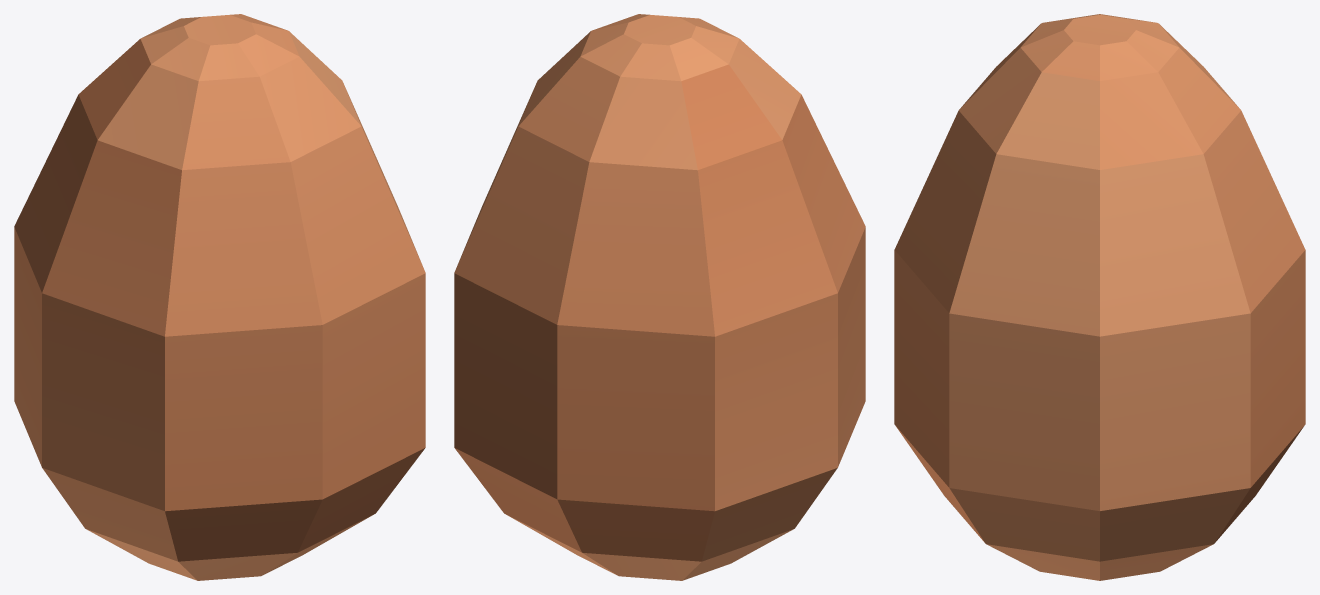
File: Egg.obj
3 renders of one model, left to right at view 1: azimuth 30°, elevation 25°; view 2: azimuth 150°, elevation 25°; view 3: azimuth 270°, elevation 25°, orthographic.
Visible parts, largest first — view 1: Cube.001_Cube.000; view 2: Cube.001_Cube.000; view 3: Cube.001_Cube.000.
Part boxes in pixels (bbox=[...]): Cube.001_Cube.000: bbox=[14, 14, 425, 580]; Cube.001_Cube.000: bbox=[454, 14, 865, 580]; Cube.001_Cube.000: bbox=[894, 14, 1305, 580].
Size of the model in its own units: 0.1487 by 0.206 by 0.1487.
